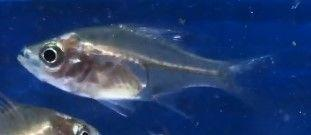Glass Perchlet: (18, 23, 275, 118)
